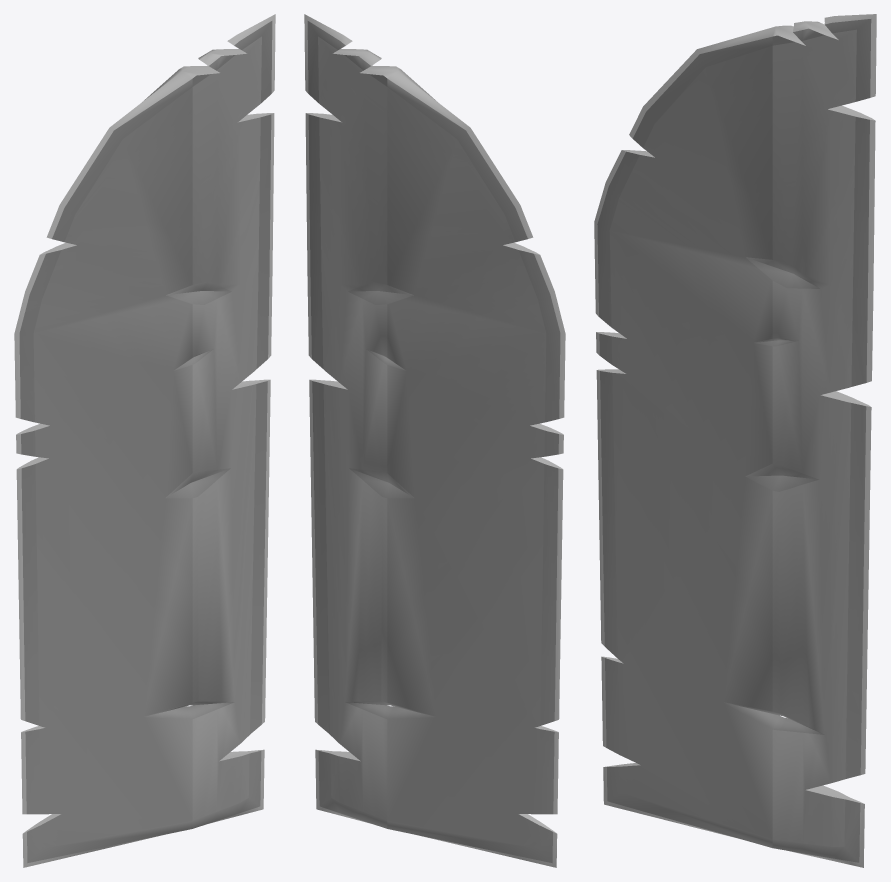
Rendered from stone_blade_scratched_053.glb.
The picture shows the model from 3 angles, left to right: view 1: azimuth 30°, elevation 25°; view 2: azimuth 150°, elevation 25°; view 3: azimuth 330°, elevation 25°; orthographic projection. The views are drawn at different scales.
Visible parts, largest first — view 1: stone_blade_scratched.053; view 2: stone_blade_scratched.053; view 3: stone_blade_scratched.053.
Part boxes in pixels (box(x1,y1,x2,y2)): stone_blade_scratched.053: box(14, 14, 275, 867); stone_blade_scratched.053: box(304, 14, 565, 867); stone_blade_scratched.053: box(594, 14, 876, 867).
Size of the model in its own units: 4.15 by 12.06 by 0.3631.
Materials: 1 (1 with a texture image).
